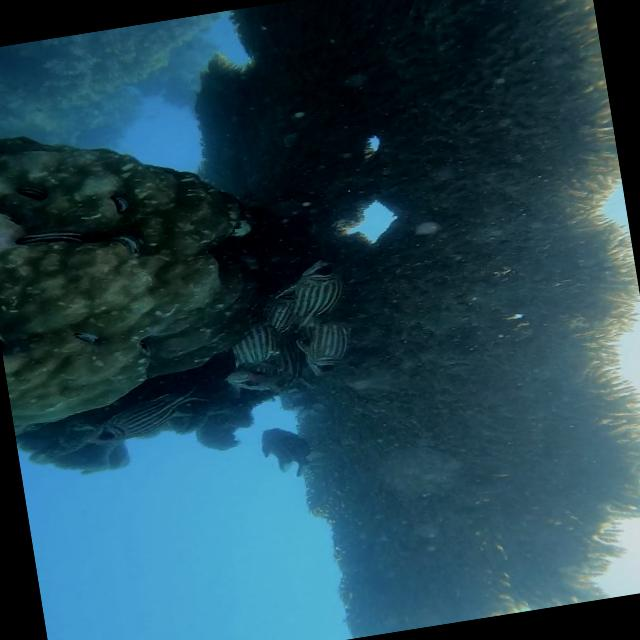Asker Baligi: (65, 378, 222, 456), (266, 258, 360, 336), (289, 310, 364, 384), (216, 347, 276, 412)
